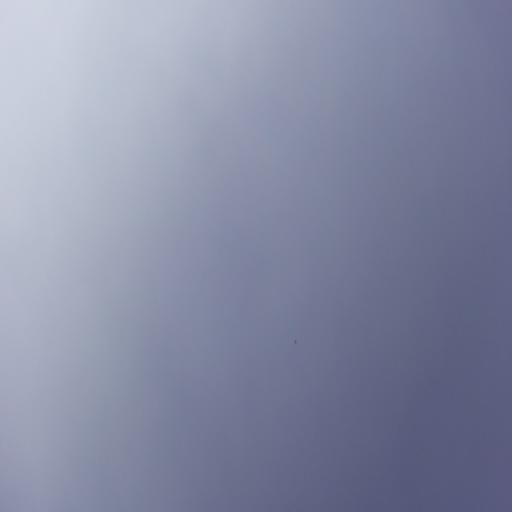drones: (293, 337, 298, 346)
